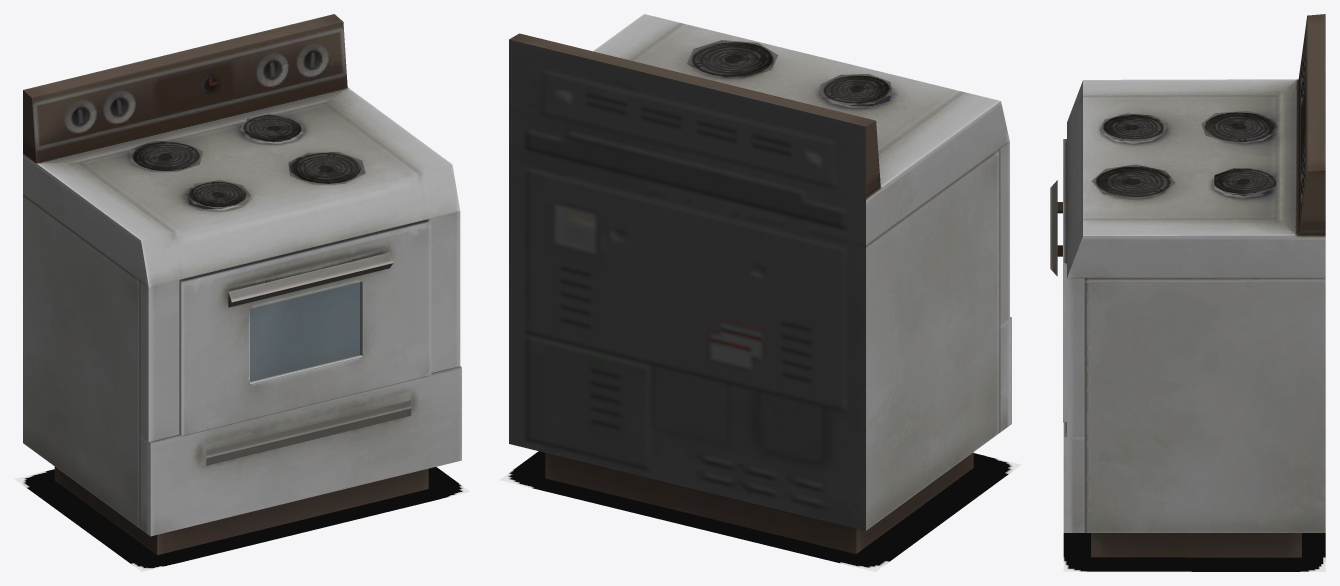
Rendered from jj_ty_kaoxiang01.FBX.
3 renders of one model, left to right at view 1: azimuth 30°, elevation 25°; view 2: azimuth 150°, elevation 25°; view 3: azimuth 270°, elevation 25°, orthographic. The views are drawn at different scales.
Visible parts, largest first — view 1: jj_ty_kaoxiang01, shadow; view 2: jj_ty_kaoxiang01, shadow; view 3: jj_ty_kaoxiang01, shadow.
Boxes of the visible parts, <box> form: jj_ty_kaoxiang01: <box>23,14,461,555</box>; shadow: <box>15,467,469,571</box>; jj_ty_kaoxiang01: <box>509,14,1011,553</box>; shadow: <box>499,451,1021,571</box>; jj_ty_kaoxiang01: <box>1050,14,1325,557</box>; shadow: <box>1063,533,1325,571</box>.
Size of the model in its own units: 114 by 129 by 80.2.
